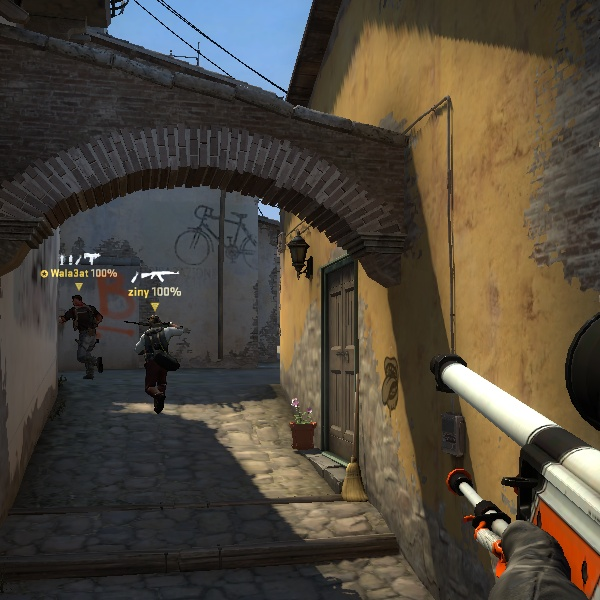t_body: (124, 310, 181, 414), (61, 290, 112, 380)
